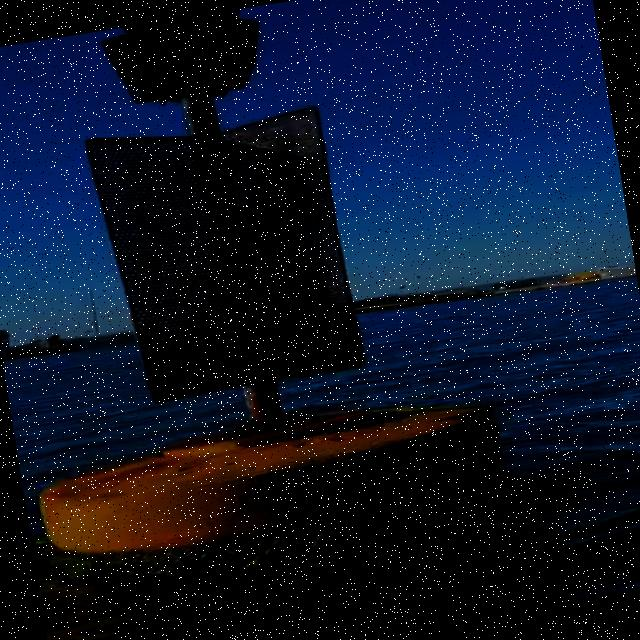marque: (1, 1, 545, 613)
